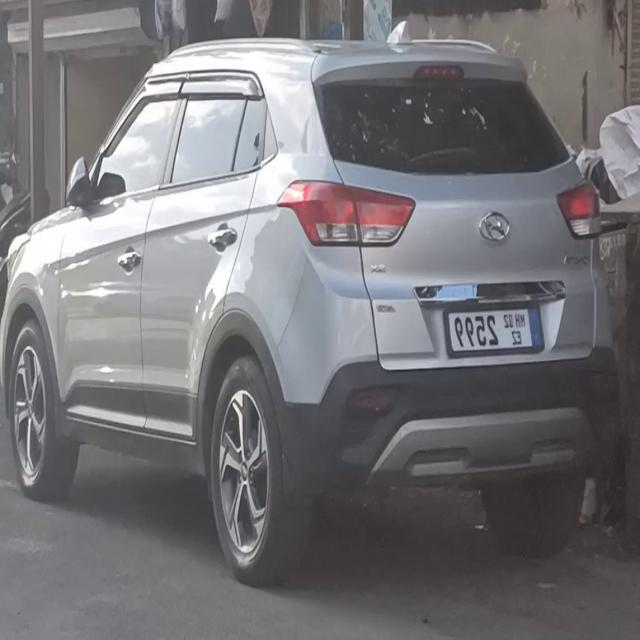license_plate: (440, 294, 546, 365)
